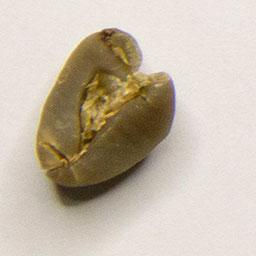premium: (32, 24, 178, 191)
